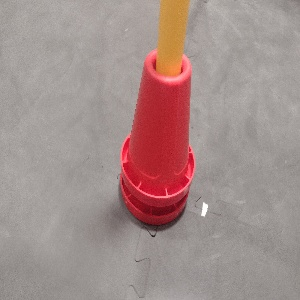Red_2: (110, 44, 199, 230)
